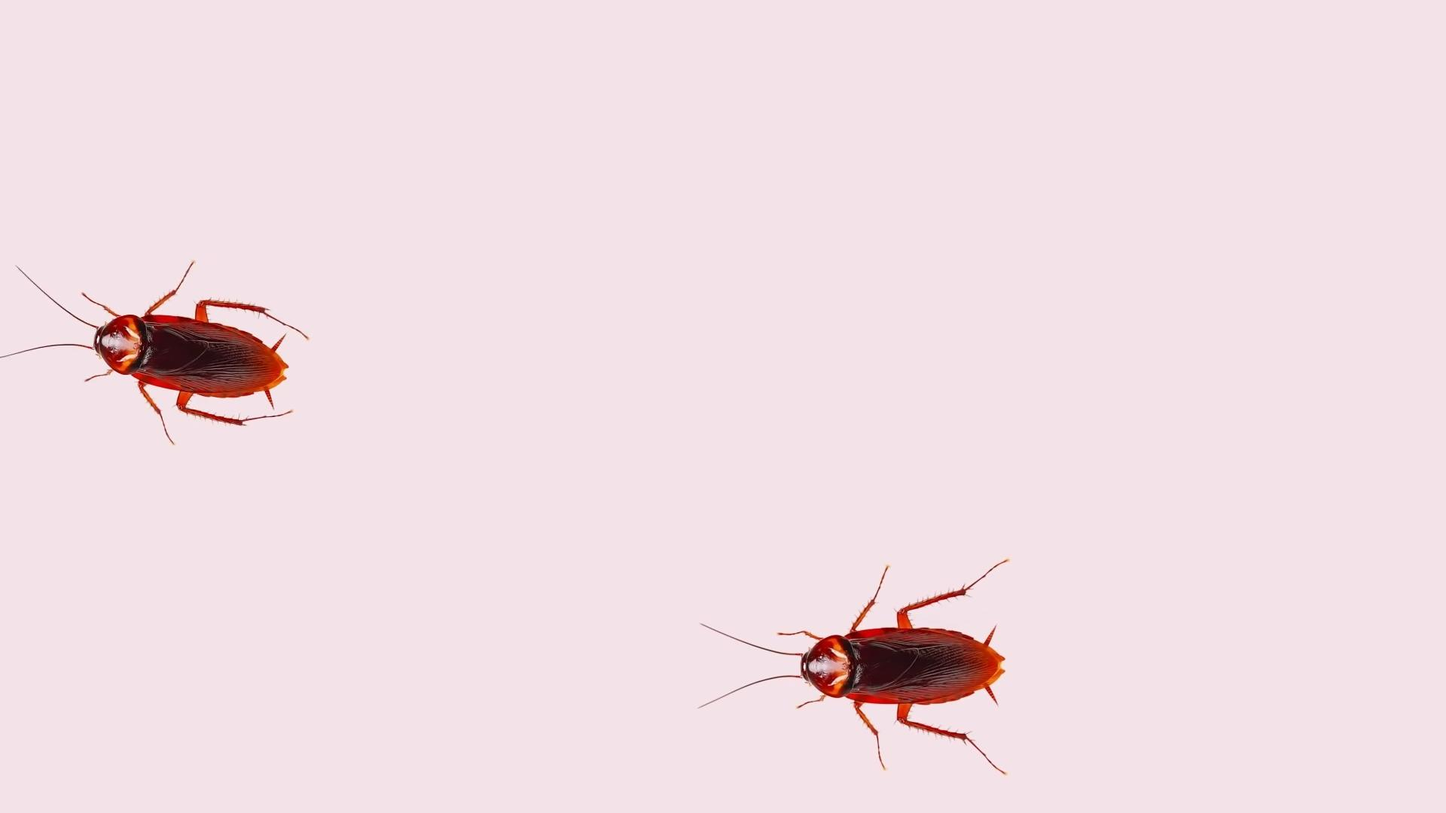cockroach: (689, 571, 1015, 765), (4, 254, 301, 441)
